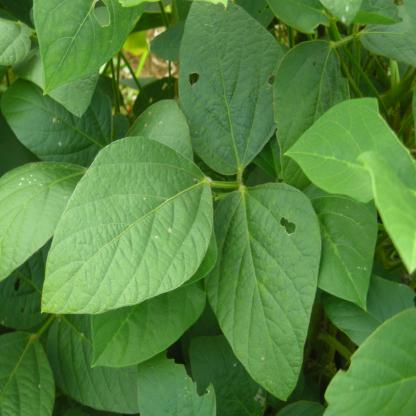soybean leaf: (39, 135, 214, 317), (203, 182, 322, 402), (176, 0, 288, 176), (282, 96, 416, 201)
